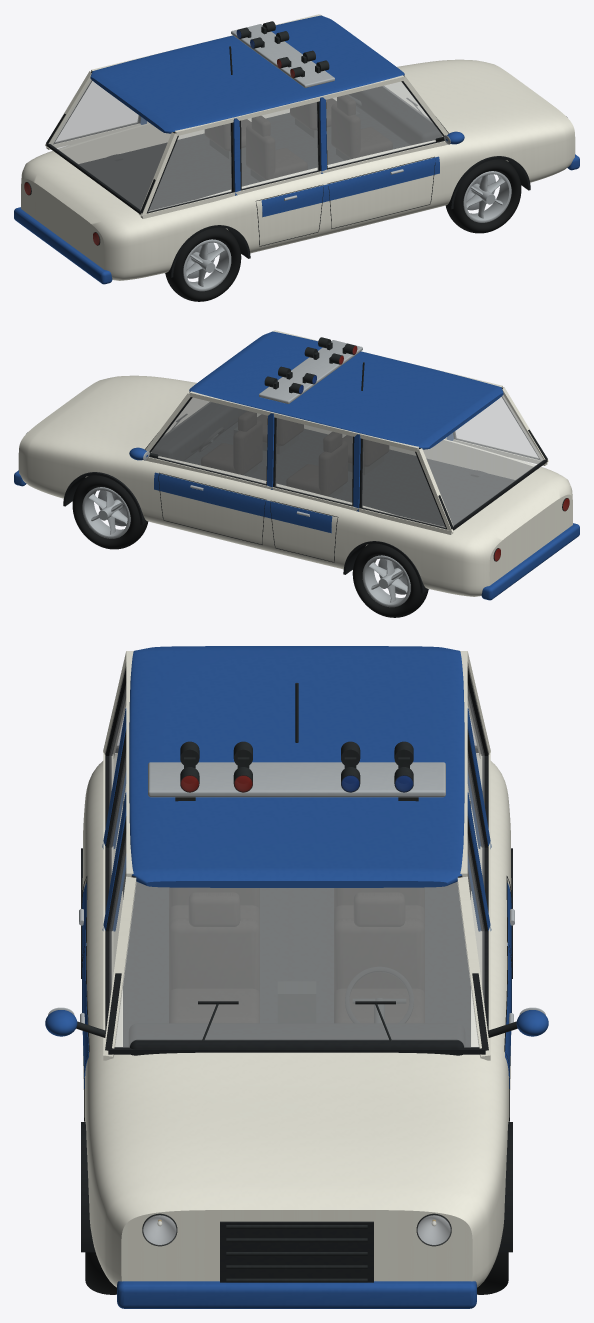
Rendered from police-suv-with-generic-livery.glb.
3 renders of one model, top to bottom at view 1: azimuth 30°, elevation 25°; view 2: azimuth 150°, elevation 25°; view 3: azimuth 270°, elevation 25°, orthographic. The views are drawn at different scales.
Parts seen in each view (by area): view 1: Patrol sculpted body with cut cabin and wheel arches, Patrol shaped finite roof panel, Patrol cabin floor, Patrol rear screen finite transparent pane, Patrol front door glazing -1 finite transparent pane, Patrol rear door glazing -1 finite transparent pane, Patrol rear quarter glazing -1 finite transparent pane, Patrol generic blue side livery -1, Patrol closed dashboard, Patrol rear quarter glazing 1 finite transparent pane, Patrol wheel 1510.0 -1 rounded tyre carcass, Patrol wheel -1510.0 -1 rounded tyre carcass (+21 smaller); view 2: Patrol sculpted body with cut cabin and wheel arches, Patrol shaped finite roof panel, Patrol cabin floor, Patrol rear screen finite transparent pane, Patrol front door glazing 1 finite transparent pane, Patrol rear door glazing 1 finite transparent pane, Patrol rear quarter glazing 1 finite transparent pane, Patrol generic blue side livery 1, Patrol closed dashboard, Patrol rear quarter glazing -1 finite transparent pane, Patrol wheel 1510.0 1 rounded tyre carcass, Patrol wheel -1510.0 1 rounded tyre carcass (+21 smaller); view 3: Patrol sculpted body with cut cabin and wheel arches, Patrol shaped finite roof panel, Patrol windscreen finite transparent pane, Patrol cabin floor, Patrol bumper 1, Patrol closed dashboard, Patrol light bar base, Patrol grille backing, Patrol seat back 0 -1, Patrol seat back 0 1, Patrol seat cushion 0 -1, Patrol seat cushion 0 1 (+23 smaller).
Part boxes in pixels (x1,y1,x2,y2): Patrol sculpted body with cut cabin and wheel arches: (21, 59, 575, 280); Patrol shaped finite roof panel: (90, 15, 404, 133); Patrol cabin floor: (79, 106, 409, 210); Patrol rear screen finite transparent pane: (50, 79, 170, 209); Patrol front door glazing -1 finite transparent pane: (326, 82, 442, 167); Patrol rear door glazing -1 finite transparent pane: (241, 102, 318, 188); Patrol rear quarter glazing -1 finite transparent pane: (148, 123, 231, 211); Patrol generic blue side livery -1: (261, 156, 439, 217); Patrol closed dashboard: (349, 86, 442, 145); Patrol rear quarter glazing 1 finite transparent pane: (55, 81, 138, 142); Patrol wheel 1510.0 -1 rounded tyre carcass: (445, 159, 521, 233); Patrol wheel -1510.0 -1 rounded tyre carcass: (165, 227, 241, 301); Patrol sculpted body with cut cabin and wheel arches: (18, 375, 572, 596); Patrol shaped finite roof panel: (189, 331, 503, 449); Patrol cabin floor: (184, 422, 514, 526); Patrol rear screen finite transparent pane: (423, 395, 543, 525); Patrol front door glazing 1 finite transparent pane: (151, 398, 267, 483); Patrol rear door glazing 1 finite transparent pane: (275, 418, 352, 504); Patrol rear quarter glazing 1 finite transparent pane: (362, 439, 445, 527); Patrol generic blue side livery 1: (154, 472, 332, 533); Patrol closed dashboard: (151, 402, 246, 461); Patrol rear quarter glazing -1 finite transparent pane: (455, 397, 538, 458); Patrol wheel 1510.0 1 rounded tyre carcass: (72, 475, 148, 549); Patrol wheel -1510.0 1 rounded tyre carcass: (352, 543, 428, 617); Patrol sculpted body with cut cabin and wheel arches: (82, 753, 511, 1287); Patrol shaped finite roof panel: (129, 646, 464, 887); Patrol windscreen finite transparent pane: (115, 882, 478, 1047); Patrol cabin floor: (123, 801, 470, 1046); Patrol bumper 1: (117, 1281, 476, 1308); Patrol closed dashboard: (128, 1023, 465, 1055); Patrol light bar base: (148, 762, 445, 797); Patrol grille backing: (220, 1221, 373, 1282); Patrol seat back 0 -1: (169, 918, 259, 992); Patrol seat back 0 1: (334, 918, 424, 992); Patrol seat cushion 0 -1: (169, 988, 259, 1023); Patrol seat cushion 0 1: (334, 988, 424, 1023).
Size of the model in its own units: 5.16 by 2.07 by 2.35.
Materials: 14 (14 with a texture image).
